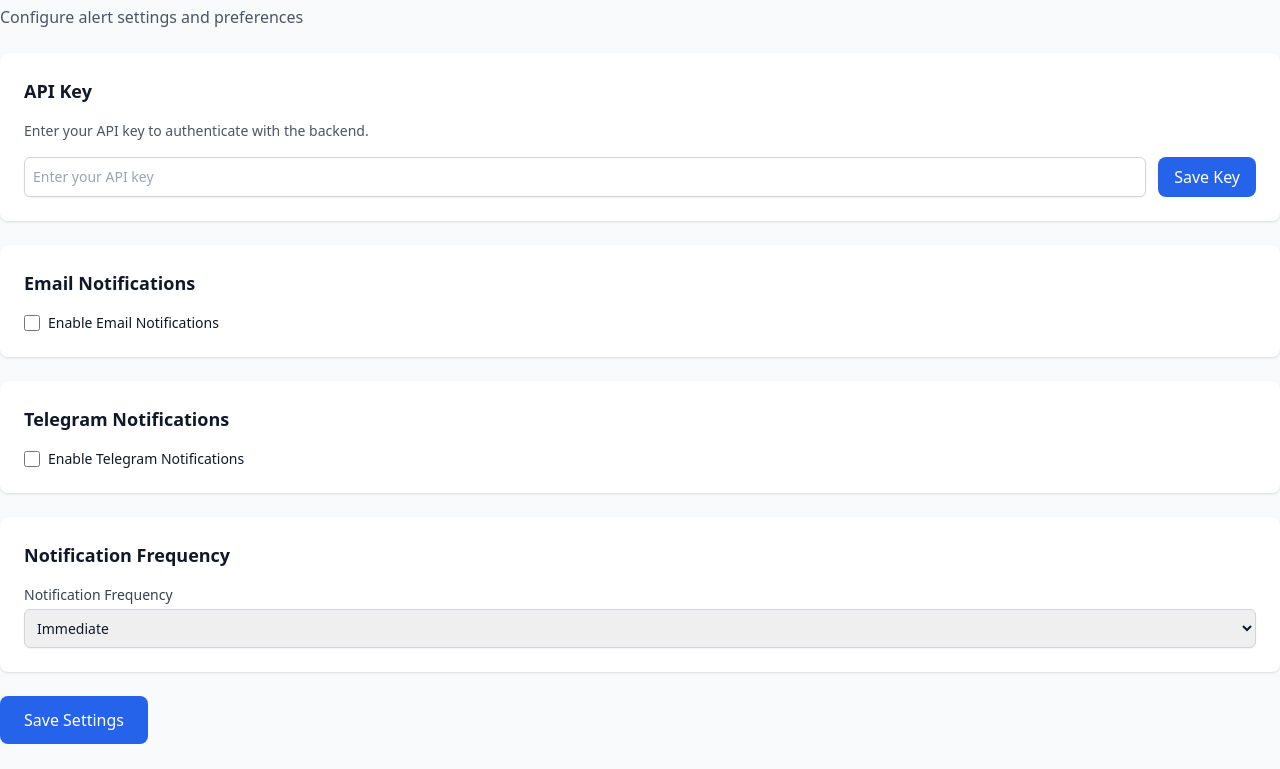
Test case: SettingsPage › should validate email format
Click the checkbox labelled "Enable Email Notifications". click: (32, 323)
box: [24,315,40,331]
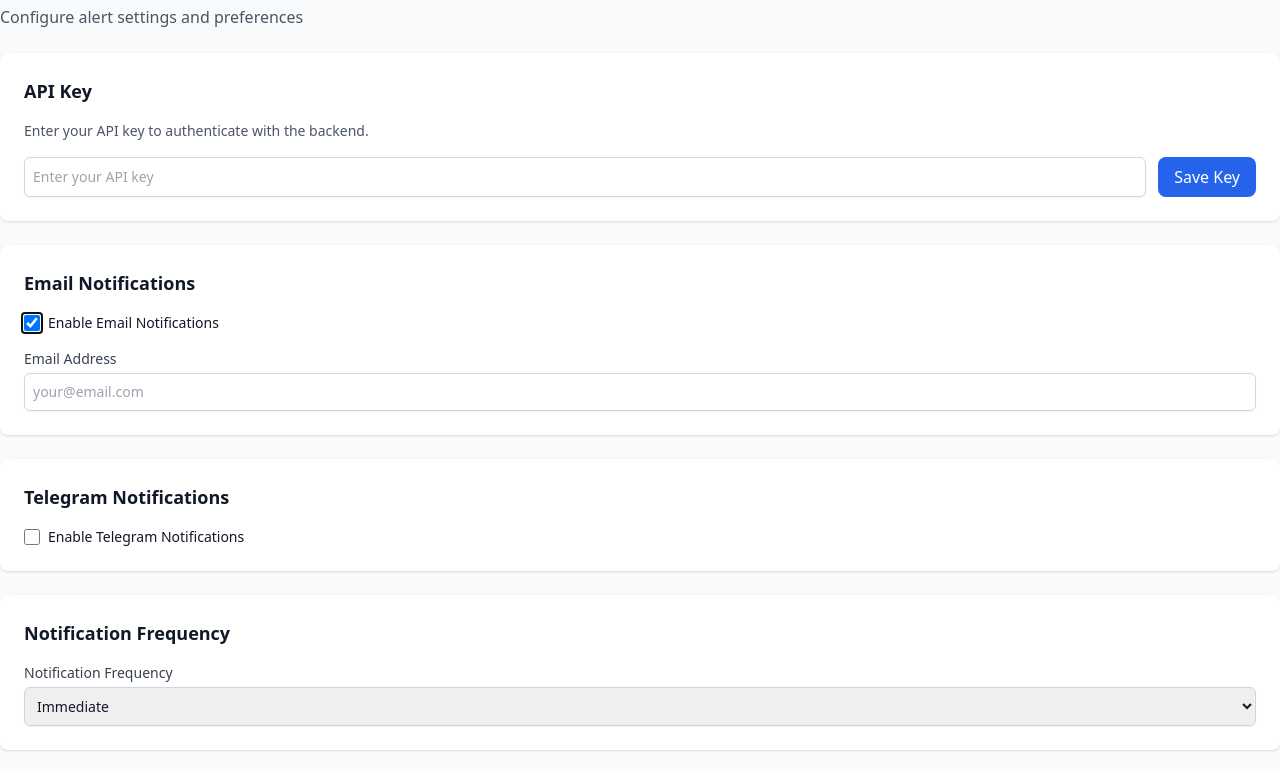
Type "invalid-email" into the field labelled "Email Address". click: (640, 392)
box: [24,373,1256,411]
(page scrolled)
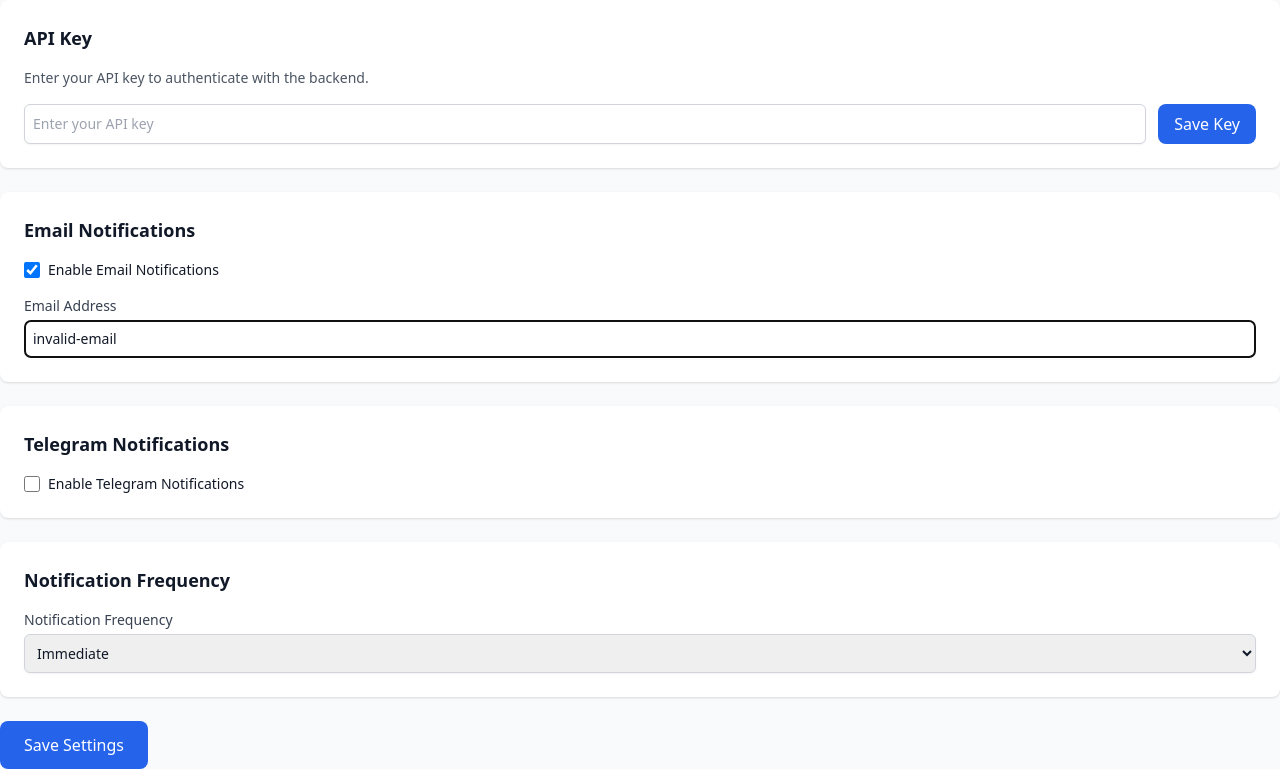
Click the button "Save Settings". click: (74, 745)
box: [0,721,148,768]
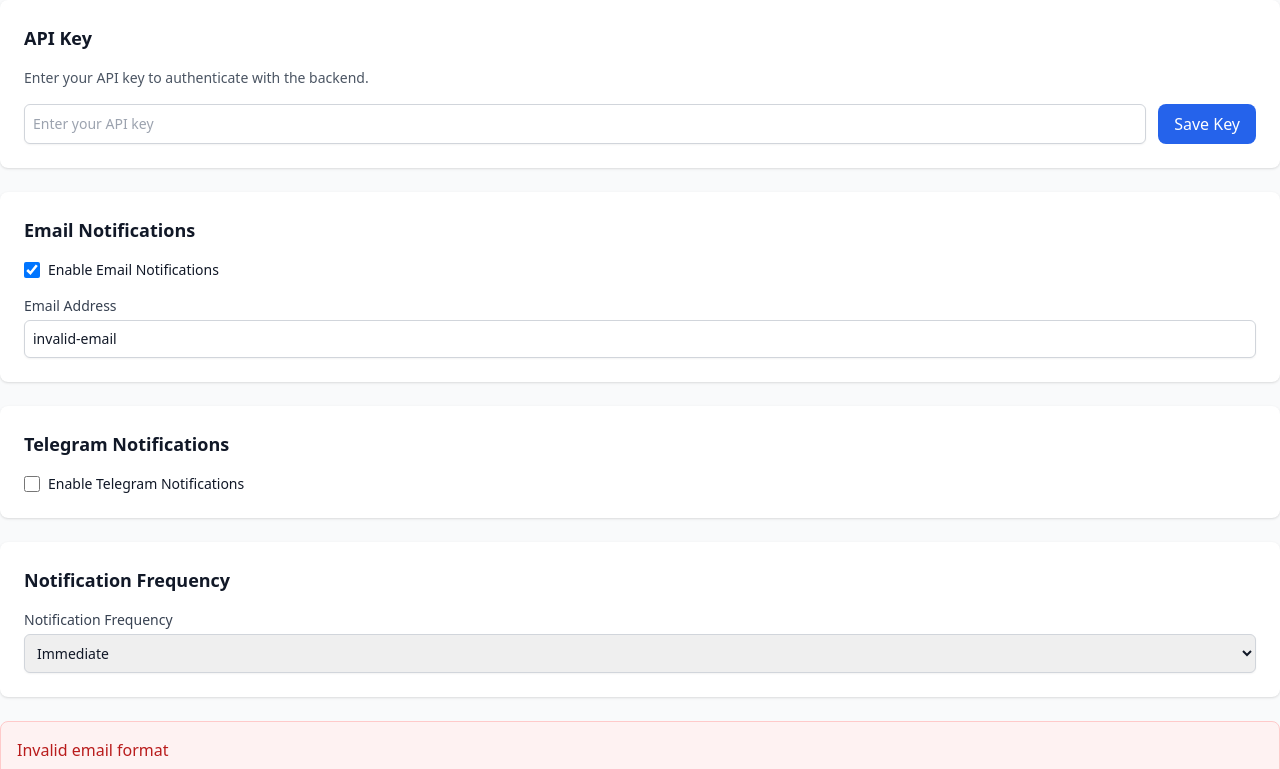
Result: the text "Invalid email format" is shown at [17,739,169,761]
